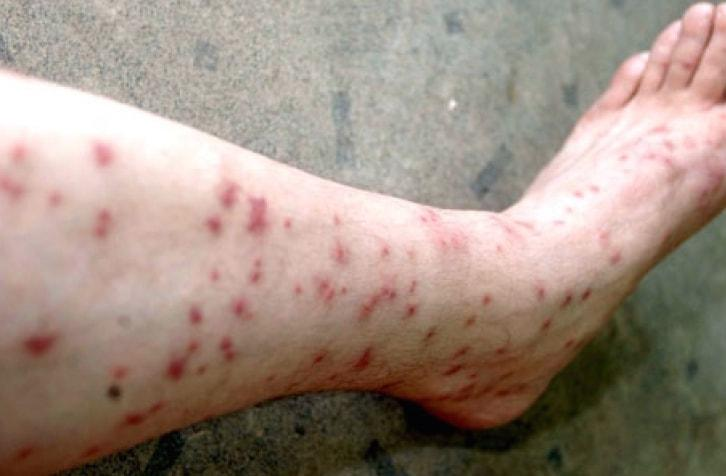Fleas: (484, 210, 540, 252), (121, 402, 175, 441), (0, 140, 29, 201), (358, 284, 401, 319), (197, 210, 233, 244), (308, 273, 343, 307), (415, 200, 445, 237), (349, 345, 380, 376), (87, 208, 116, 240), (429, 392, 482, 408), (247, 196, 268, 235), (458, 380, 501, 399), (185, 300, 216, 325), (232, 300, 255, 332), (8, 441, 38, 465), (165, 352, 189, 381), (219, 180, 242, 210), (487, 340, 513, 366), (101, 379, 125, 407), (328, 236, 348, 268), (24, 334, 59, 352), (495, 383, 532, 400), (307, 344, 332, 369), (92, 140, 114, 168), (434, 237, 466, 256), (527, 280, 551, 304), (555, 289, 578, 313), (449, 342, 471, 367), (574, 284, 597, 307), (219, 338, 239, 363), (401, 281, 421, 304), (441, 361, 467, 378), (421, 323, 440, 346), (560, 337, 580, 357), (571, 184, 591, 204), (480, 292, 499, 313), (536, 314, 553, 337), (380, 244, 398, 264), (250, 256, 263, 283), (460, 312, 479, 328), (210, 269, 221, 288), (405, 304, 418, 320)
